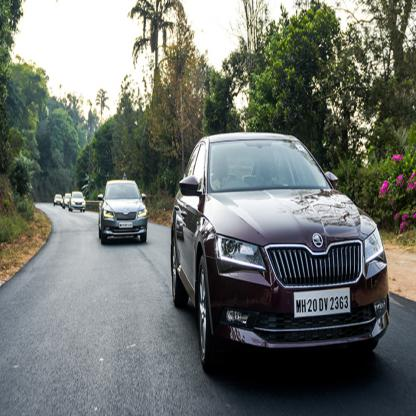car: (171, 130, 386, 378), (98, 178, 151, 246), (68, 192, 86, 215), (53, 194, 64, 206)
